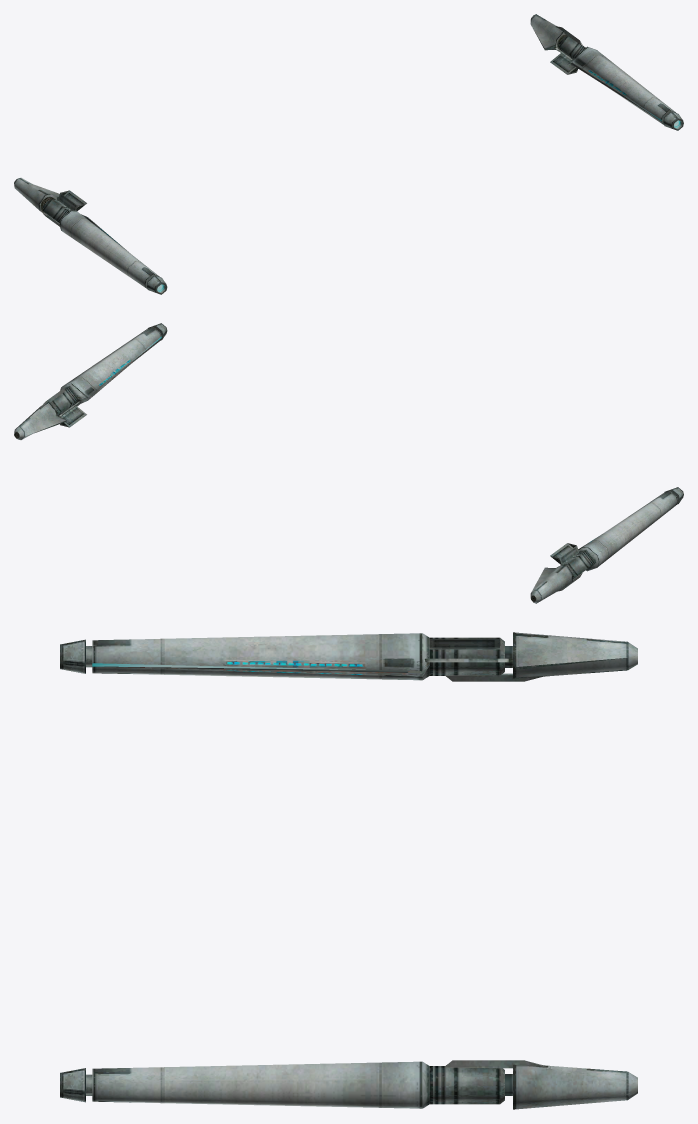
The model's file is xwing_weapon1_neg_s02_l1.fbx.
3 renders of one model, top to bottom at view 1: azimuth 30°, elevation 25°; view 2: azimuth 150°, elevation 25°; view 3: azimuth 270°, elevation 25°, orthographic. The views are drawn at different scales.
Parts seen in each view (by area): view 1: mesh_node; view 2: mesh_node; view 3: mesh_node.
Part boxes in pixels (box(x1,y1,x2,y2)): mesh_node: box(14, 14, 683, 294); mesh_node: box(14, 323, 683, 603); mesh_node: box(60, 632, 637, 1109).
Size of the model in its own units: 13.95 by 1.55 by 6.48.
1 material, 1 textured.
